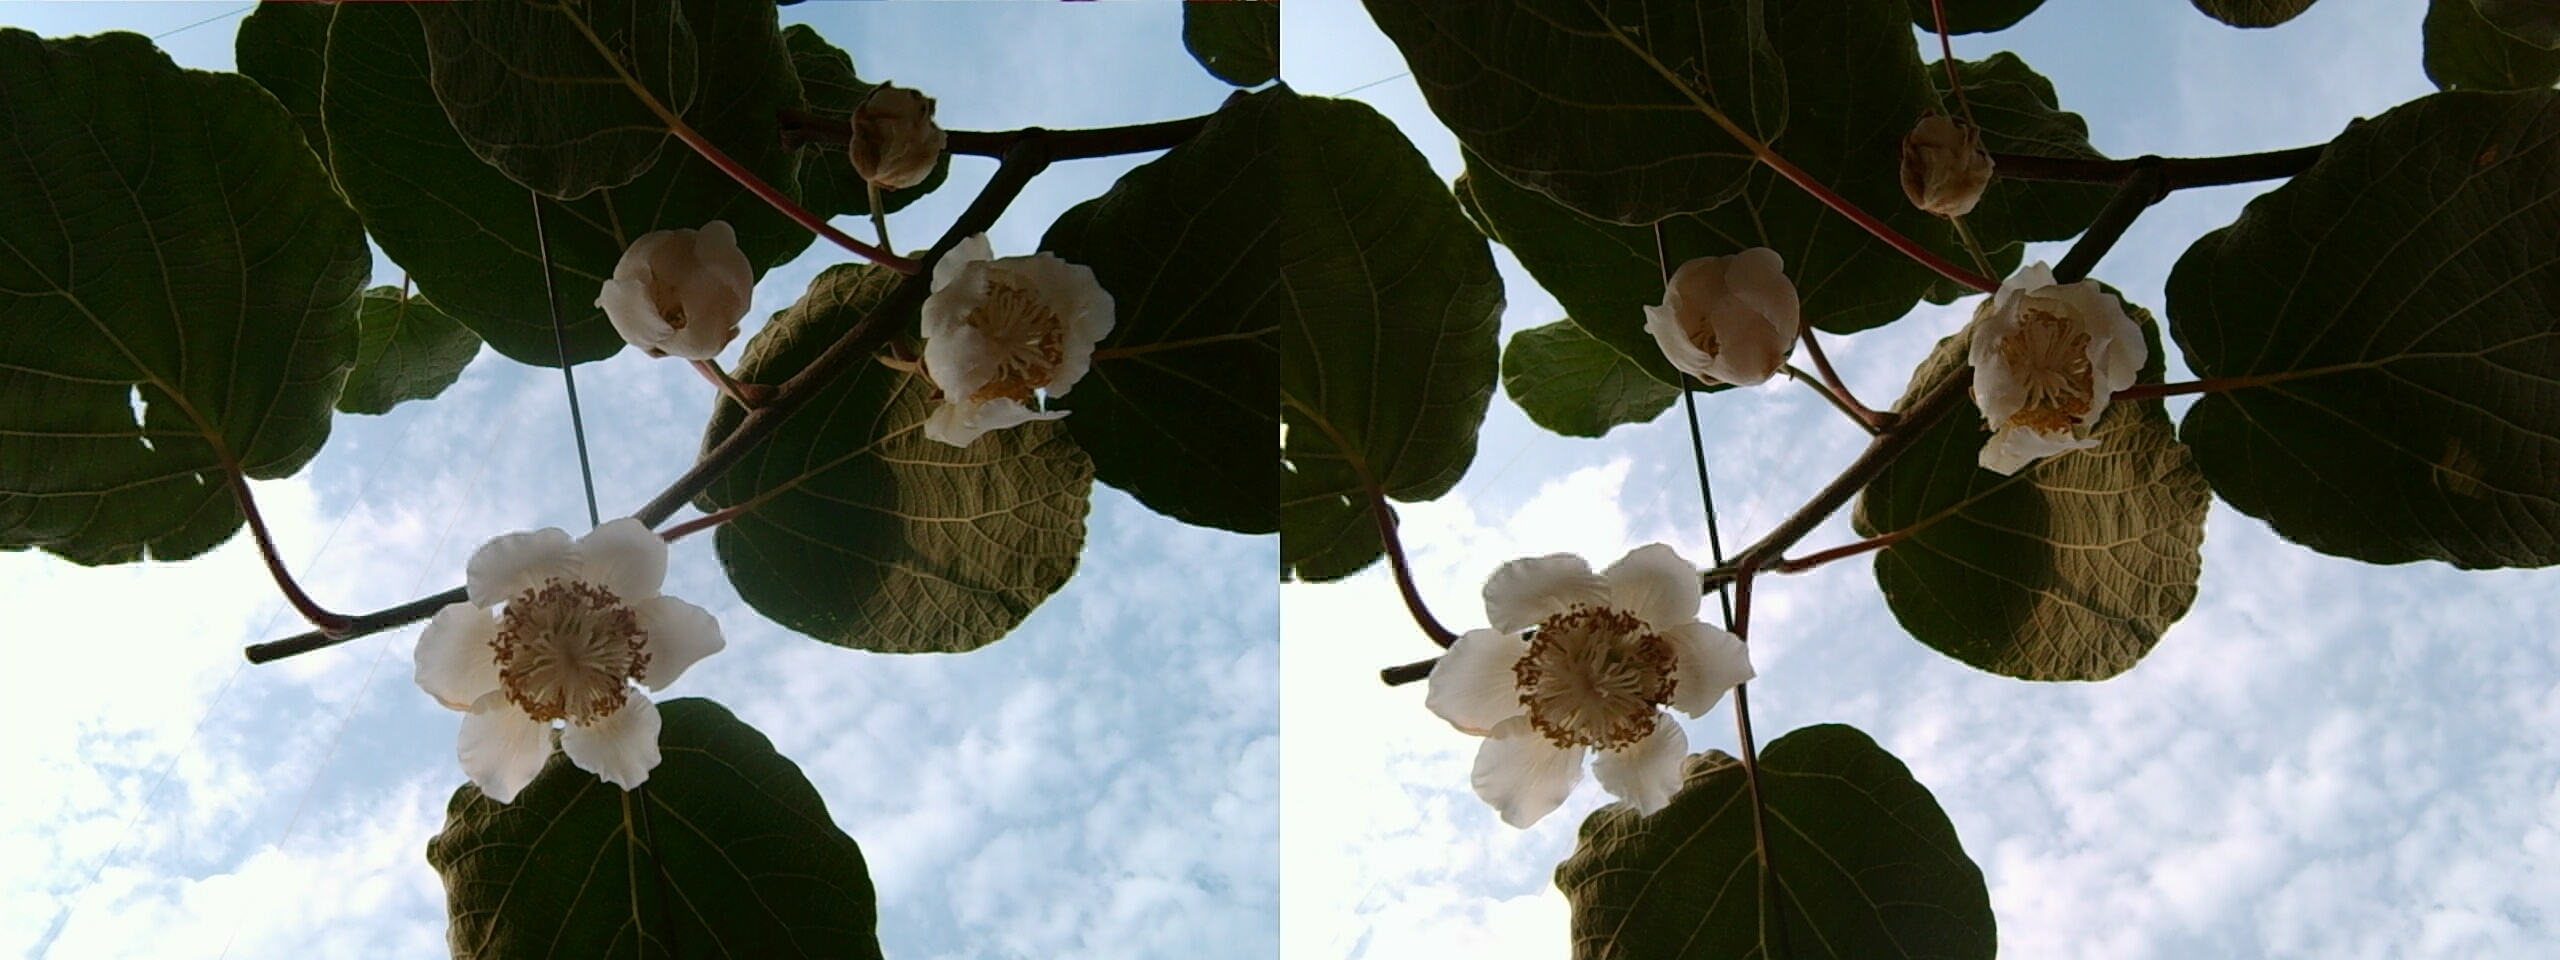flower: (1430, 527, 1736, 818), (411, 504, 707, 795), (1958, 256, 2152, 465), (921, 247, 1110, 424), (602, 216, 744, 366), (1649, 240, 1789, 385)
